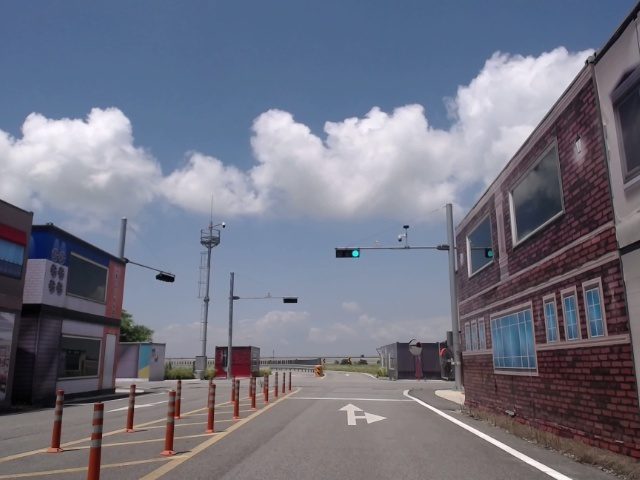green_3: (336, 250, 360, 259)
